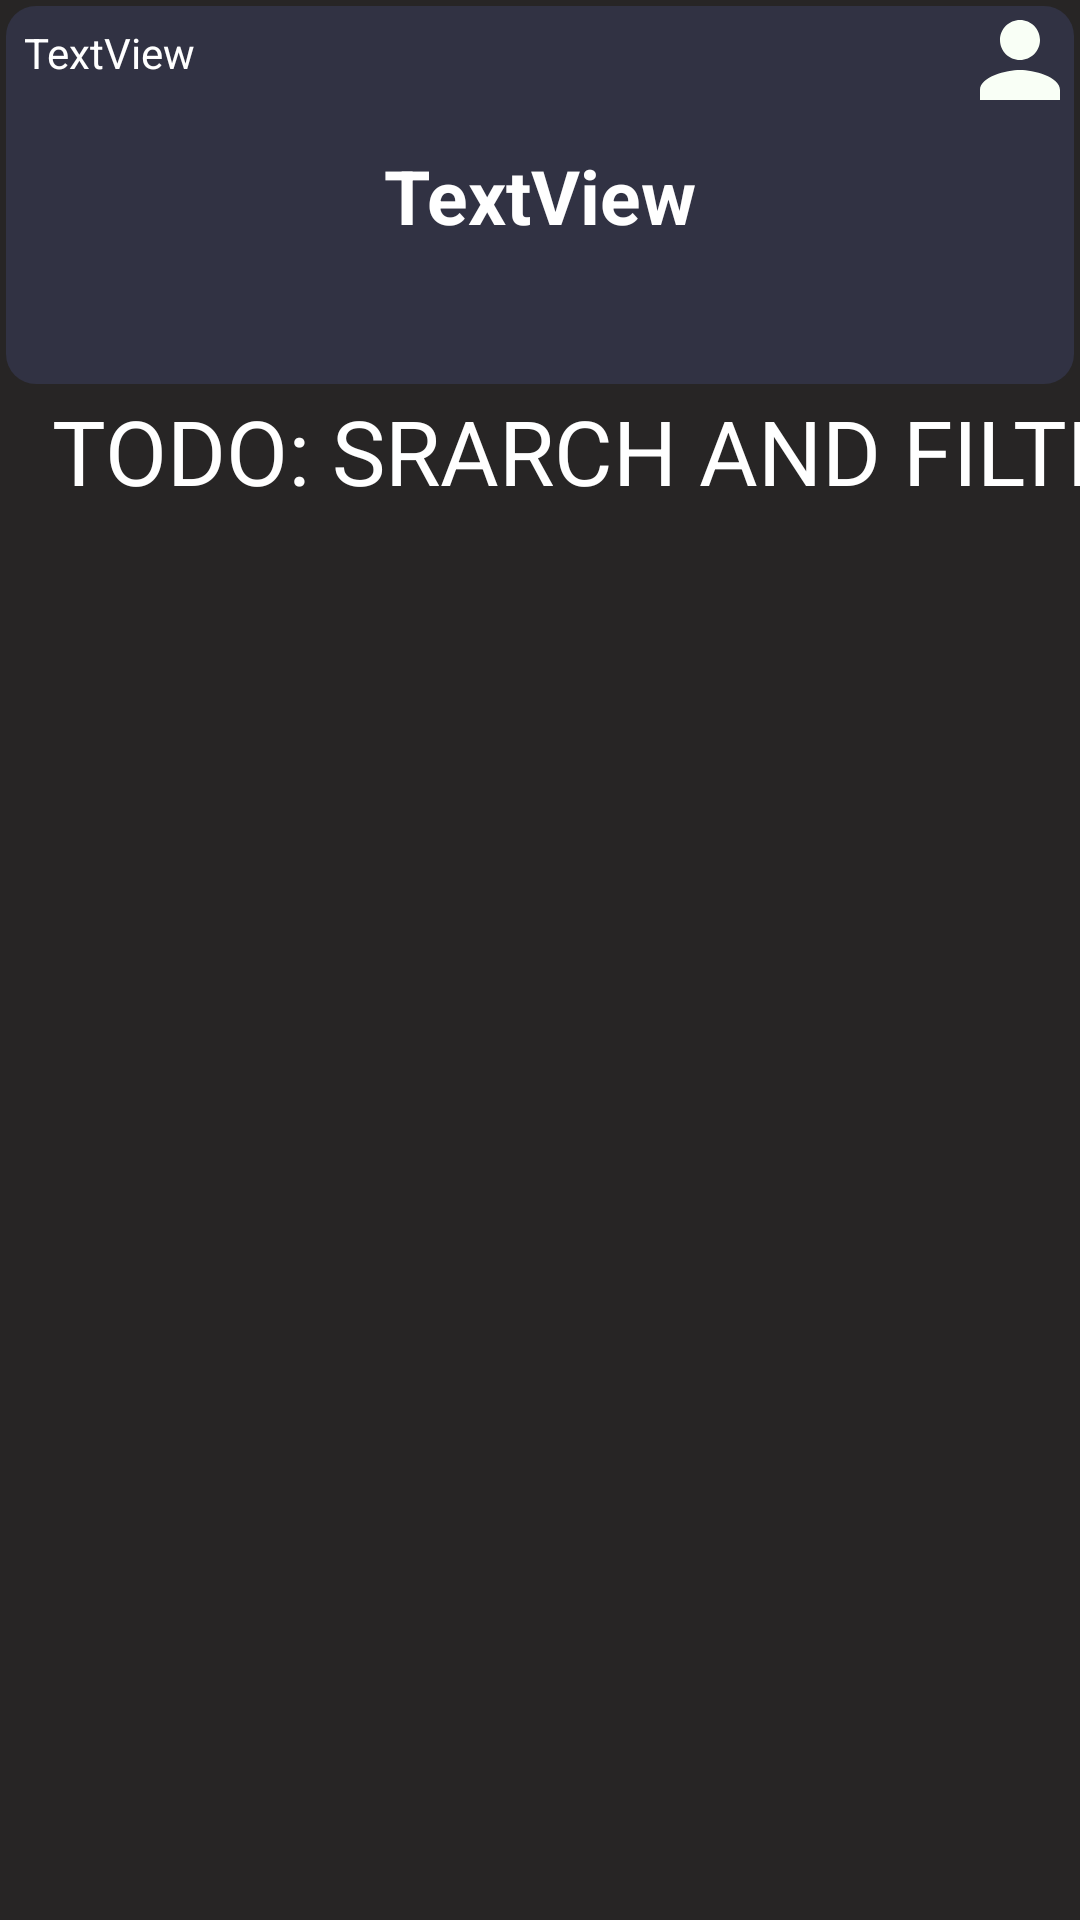

Icons on this 1080×1920 Android screen, each with the point to tap as (x,y):
person: (1020,60)
